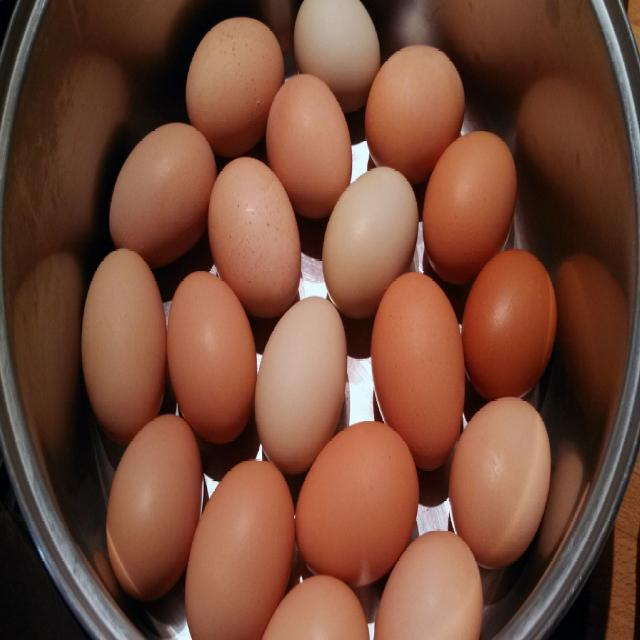Egg: (81, 125, 561, 640), (182, 454, 296, 640), (293, 418, 420, 583), (369, 273, 466, 462), (448, 397, 555, 562), (254, 292, 348, 470), (81, 245, 166, 430), (318, 167, 418, 317), (209, 155, 303, 309), (463, 245, 552, 396)
